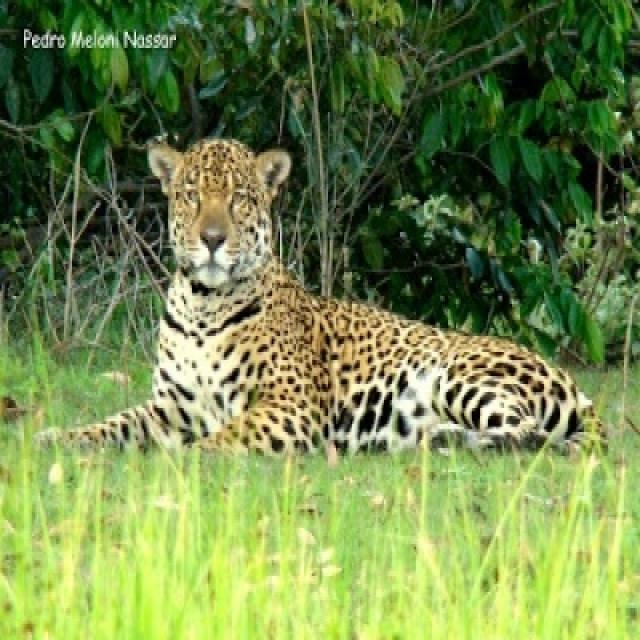Jaguar: (59, 139, 594, 462)
